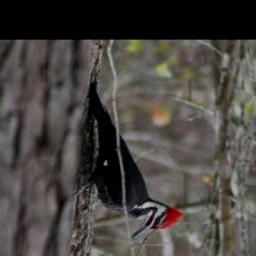Woodpecker: (73, 74, 187, 239)
